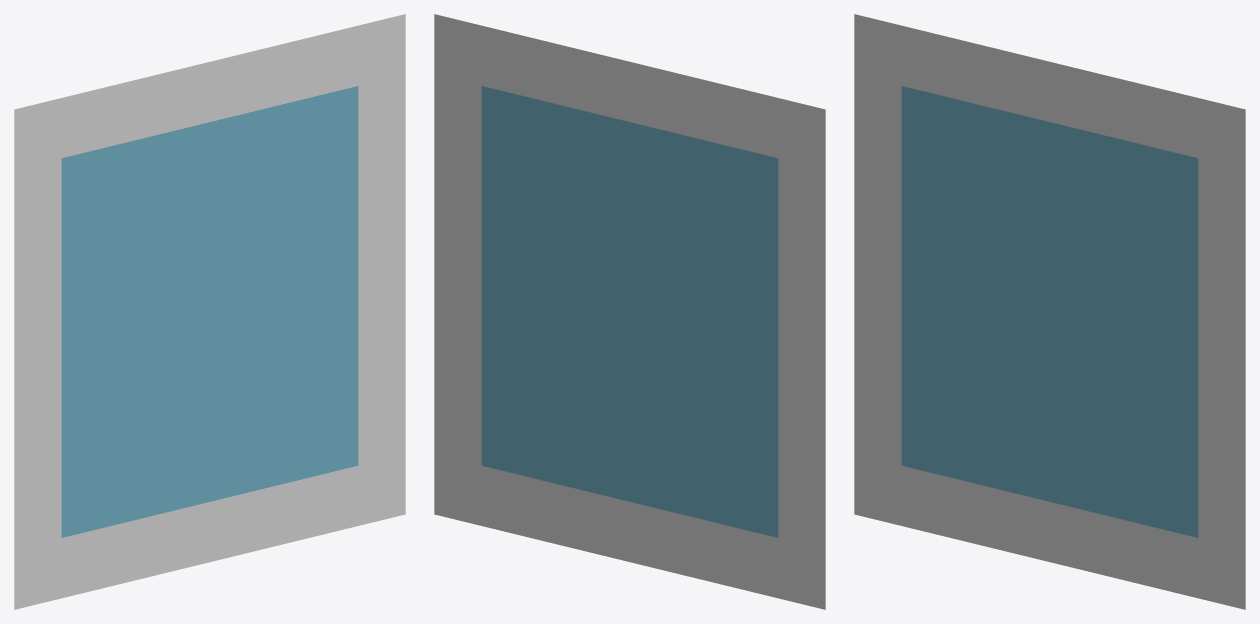
Rendered from Polaroid 2.fbx.
The picture shows the model from 3 angles, left to right: view 1: azimuth 30°, elevation 25°; view 2: azimuth 150°, elevation 25°; view 3: azimuth 330°, elevation 25°; orthographic projection.
Visible parts, largest first — view 1: Polaroid 2; view 2: Polaroid 2; view 3: Polaroid 2.
Part boxes in pixels (x1,y1,x2,y2): Polaroid 2: (14, 14, 405, 609); Polaroid 2: (434, 14, 825, 609); Polaroid 2: (854, 14, 1245, 609).
Size of the model in its own units: 306 by 374 by 6.09e-05.
